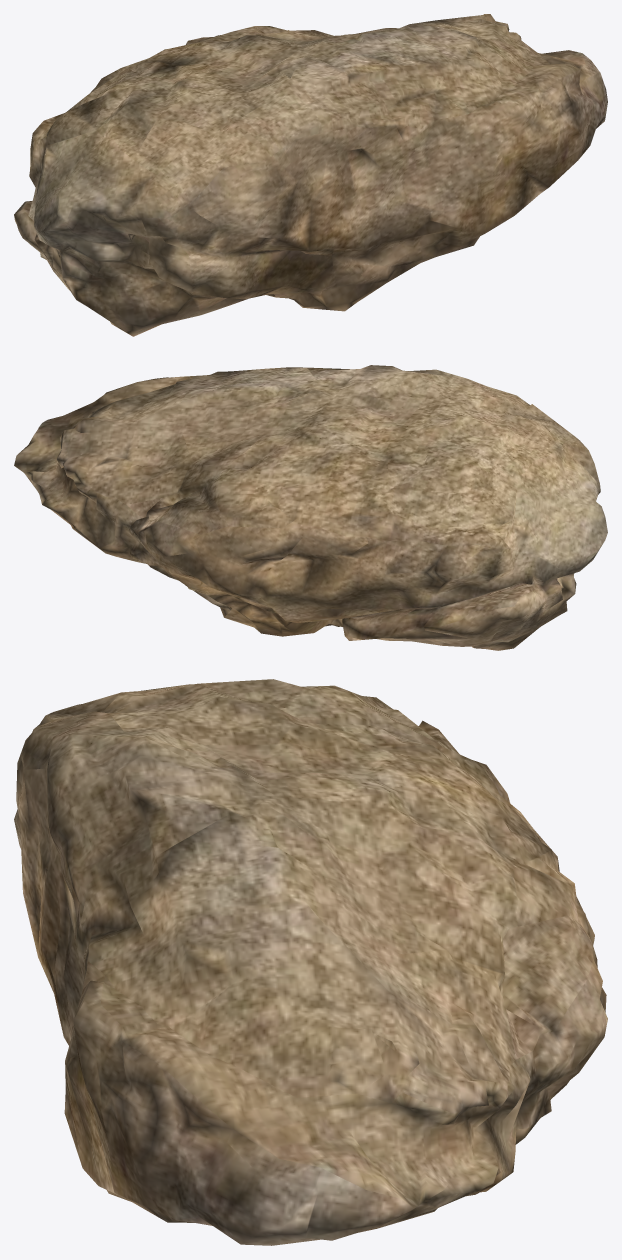
File: namaqualand_boulder_05.glb
The picture shows the model from 3 angles, top to bottom: view 1: azimuth 30°, elevation 25°; view 2: azimuth 150°, elevation 25°; view 3: azimuth 270°, elevation 25°; orthographic projection. The views are drawn at different scales.
Parts seen in each view (by area): view 1: namaqualand_boulder_05; view 2: namaqualand_boulder_05; view 3: namaqualand_boulder_05.
Part boxes in pixels (bbox=[...]): namaqualand_boulder_05: bbox=[14, 14, 607, 336]; namaqualand_boulder_05: bbox=[14, 365, 607, 650]; namaqualand_boulder_05: bbox=[14, 679, 607, 1245].
Size of the model in its own units: 1.36 by 0.5337 by 0.748.
1 material, 1 textured.
